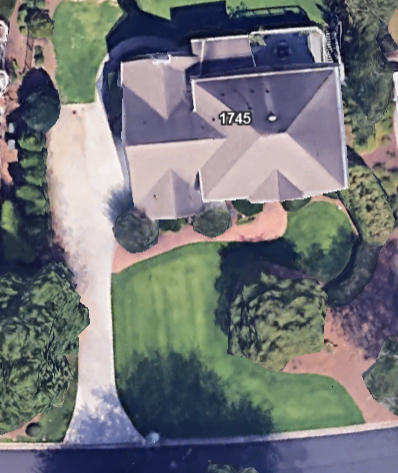driveway: (43, 91, 139, 443)
